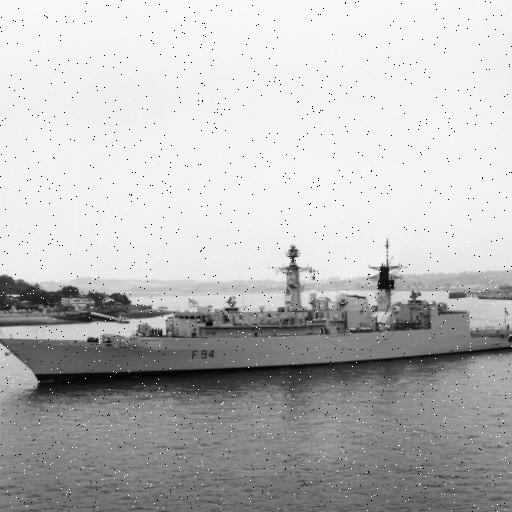Fragata: (1, 223, 512, 392)
